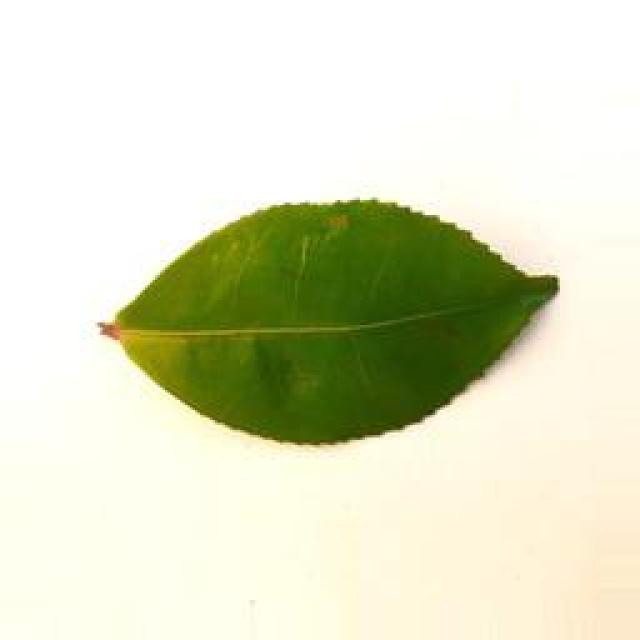Healthy: (98, 197, 568, 447)
